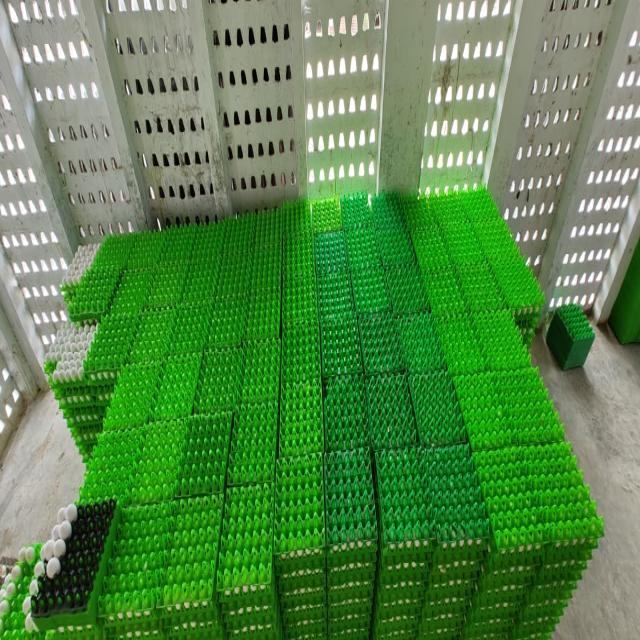egg_tray: (466, 443, 603, 637), (403, 189, 543, 345), (376, 445, 488, 633), (99, 496, 222, 637), (474, 441, 603, 571), (80, 415, 231, 505), (419, 446, 489, 633), (376, 444, 488, 550), (32, 499, 120, 627), (372, 446, 430, 632), (514, 523, 603, 637), (324, 448, 377, 636), (218, 483, 282, 636), (467, 195, 543, 322), (217, 483, 280, 633), (274, 454, 326, 635), (98, 503, 173, 625), (44, 323, 112, 457), (454, 369, 564, 450), (32, 505, 100, 614), (324, 449, 377, 584), (422, 445, 490, 548), (162, 494, 222, 609), (466, 544, 540, 635), (418, 541, 486, 636), (65, 235, 137, 320), (274, 453, 324, 574), (218, 483, 272, 595), (434, 310, 530, 373), (376, 448, 429, 550), (372, 547, 428, 636), (345, 207, 391, 313), (80, 429, 142, 505), (176, 412, 232, 496), (130, 420, 184, 503), (226, 400, 278, 484), (409, 372, 466, 445), (464, 191, 520, 265), (104, 362, 161, 431), (85, 313, 140, 383), (366, 373, 416, 449), (490, 251, 544, 320), (0, 545, 40, 638), (44, 323, 96, 393), (279, 378, 324, 457), (150, 352, 202, 420), (401, 195, 450, 267), (328, 562, 374, 637), (472, 310, 530, 369), (323, 376, 369, 450), (194, 347, 244, 413), (546, 304, 594, 368), (397, 312, 446, 373), (67, 265, 120, 321), (436, 315, 486, 373), (63, 387, 112, 445), (436, 210, 484, 269), (158, 221, 222, 263), (320, 313, 362, 376), (60, 380, 114, 429), (128, 307, 176, 362), (360, 313, 402, 374), (162, 600, 226, 639), (240, 339, 280, 401), (457, 261, 505, 312), (281, 322, 320, 383), (169, 299, 212, 354), (400, 196, 438, 256), (208, 290, 248, 347), (60, 243, 100, 299), (110, 267, 156, 315), (280, 589, 326, 637), (244, 279, 280, 340), (423, 265, 466, 316), (386, 264, 428, 315), (221, 216, 256, 277), (94, 609, 165, 638), (182, 250, 220, 304), (216, 243, 253, 297), (412, 221, 450, 271), (148, 260, 188, 307), (400, 194, 436, 246), (66, 410, 102, 462), (282, 273, 318, 325), (90, 234, 137, 273), (352, 266, 391, 313), (318, 269, 354, 319), (282, 199, 312, 256), (222, 216, 256, 266), (250, 243, 282, 295), (432, 192, 470, 234), (346, 224, 381, 269), (372, 192, 408, 234), (221, 214, 257, 256), (372, 192, 406, 236), (378, 228, 414, 269), (191, 224, 226, 265), (314, 232, 348, 274), (160, 227, 198, 264), (283, 231, 314, 276), (371, 192, 406, 231), (126, 234, 166, 268), (282, 200, 312, 245), (254, 208, 284, 246), (340, 194, 372, 229), (312, 198, 342, 232), (514, 313, 538, 347), (528, 290, 541, 304), (142, 624, 158, 631), (244, 260, 251, 274), (425, 545, 432, 553), (526, 277, 535, 283), (221, 269, 228, 276), (226, 495, 229, 509), (432, 577, 439, 582), (190, 273, 196, 277), (438, 234, 441, 239), (354, 562, 359, 565), (305, 256, 308, 260), (284, 252, 286, 257), (540, 575, 548, 576), (344, 571, 348, 573), (213, 614, 216, 616), (522, 261, 525, 263), (361, 563, 364, 565), (462, 192, 464, 194), (102, 540, 103, 543), (57, 397, 59, 398), (359, 562, 361, 563), (125, 627, 126, 628), (418, 260, 419, 260), (409, 545, 409, 550), (472, 280, 472, 282), (290, 254, 290, 255), (192, 270, 193, 270), (234, 427, 234, 428), (194, 248, 194, 250)
